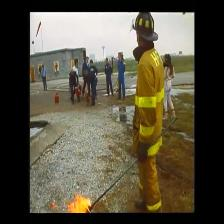fire: (70, 196, 94, 214)
